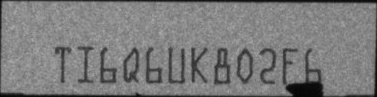2: (258, 46, 276, 86)
6: (303, 47, 323, 85), (145, 45, 163, 85), (100, 45, 117, 83)
8: (213, 47, 231, 85)
G: (282, 46, 299, 85)
I: (75, 44, 95, 84)
K: (190, 44, 208, 84)
O: (235, 47, 253, 84)
Q: (123, 45, 140, 83)
T: (54, 45, 71, 83)
U: (167, 45, 185, 83)
